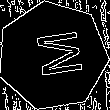M_W: (24, 29, 82, 83)
